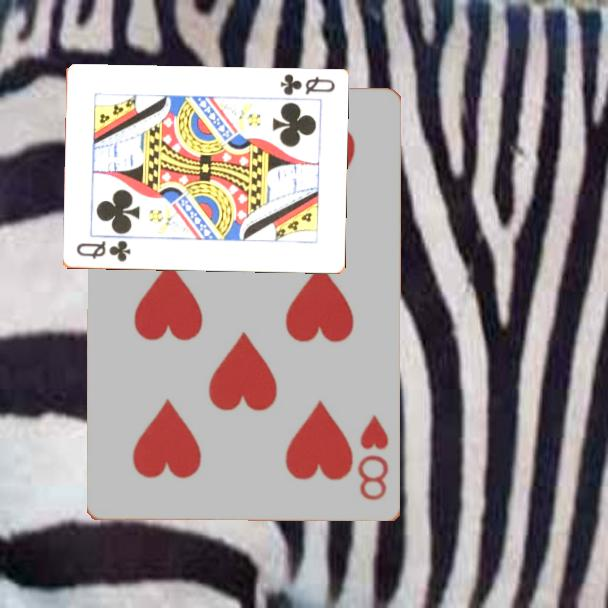c12: (73, 237, 133, 265), (276, 71, 337, 98)
h08: (355, 412, 392, 503)
